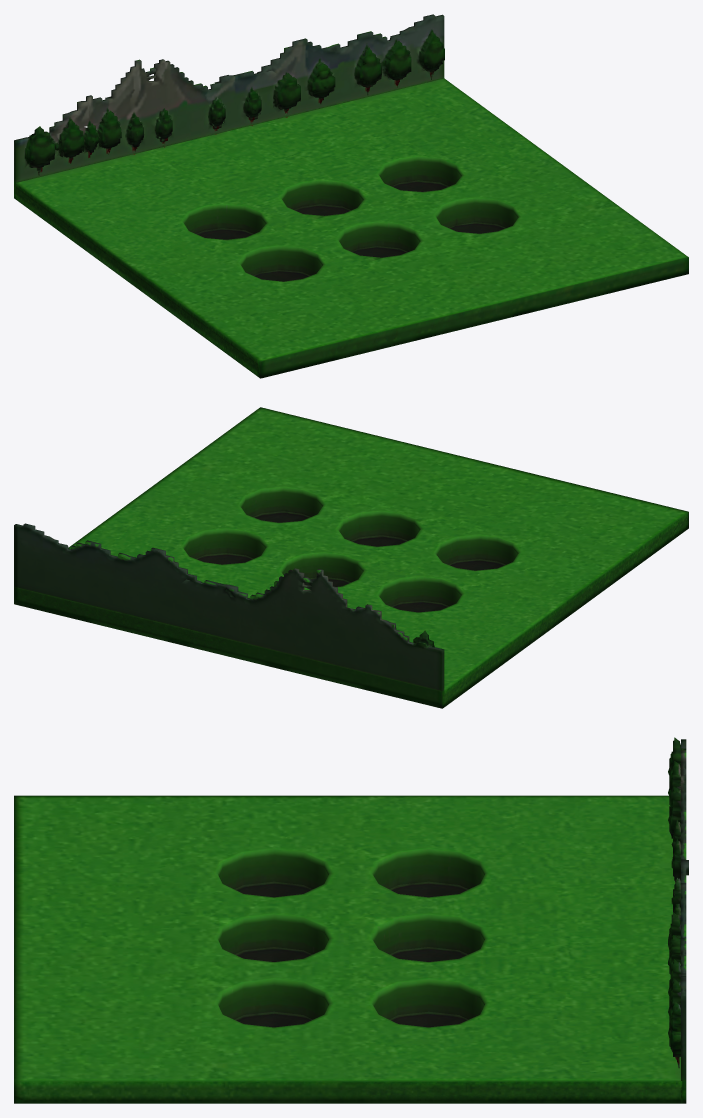
The model's file is wack a mole base model.glb.
3 views of the same model, one above another, from view 1: azimuth 30°, elevation 25°; view 2: azimuth 150°, elevation 25°; view 3: azimuth 270°, elevation 25° (orthographic). The views are drawn at different scales.
Parts seen in each view (by area): view 1: tripo_node_8f55cb85-3261-400a-bc9b-b6451000c2e2; view 2: tripo_node_8f55cb85-3261-400a-bc9b-b6451000c2e2; view 3: tripo_node_8f55cb85-3261-400a-bc9b-b6451000c2e2.
Boxes of the visible parts, x1=… form: tripo_node_8f55cb85-3261-400a-bc9b-b6451000c2e2: x1=14, y1=14, x2=688, y2=378; tripo_node_8f55cb85-3261-400a-bc9b-b6451000c2e2: x1=14, y1=407, x2=688, y2=708; tripo_node_8f55cb85-3261-400a-bc9b-b6451000c2e2: x1=14, y1=737, x2=688, y2=1103.
Size of the model in its own units: 0.9765 by 0.258 by 0.9765.
1 material, 1 textured.
